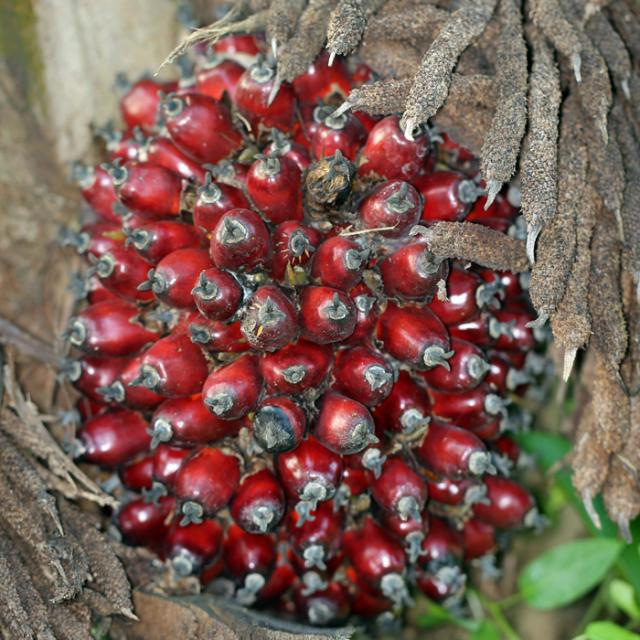FFB: (62, 26, 547, 622)
